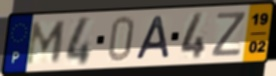0: (106, 15, 136, 64)
4: (64, 16, 92, 68), (179, 11, 208, 61)
A: (134, 14, 171, 62)
M: (23, 20, 69, 67)
Z: (209, 10, 249, 59)
